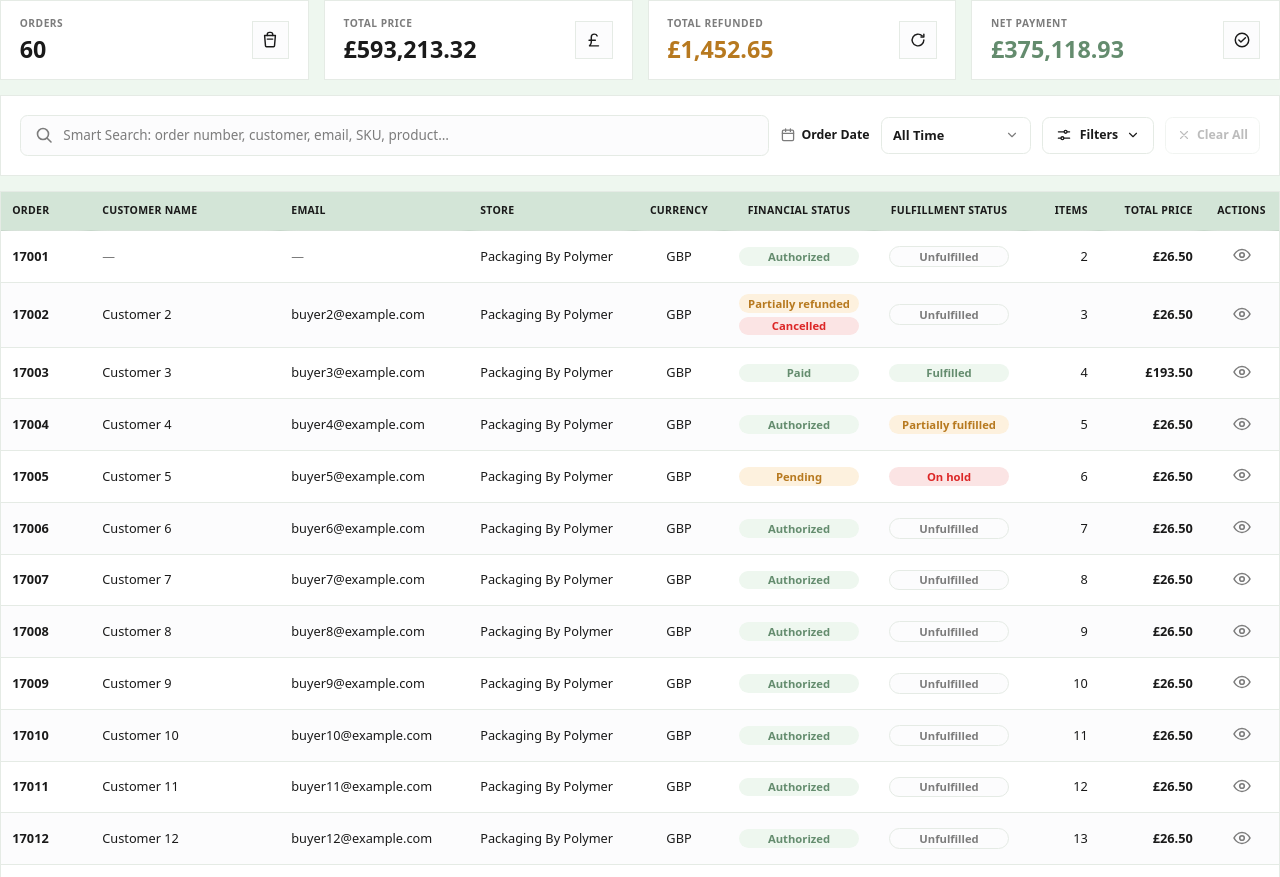
Test case: OrdersPage › searches after a short pause, returns to page 1, and recovers from an empty result
The image size is (1280, 877).
Expected: the text "17002" is shown, x1=12 y1=305 x2=49 y2=323
Type "nomatch" into the search field with placeholder "Smart Search: order number, customer, email, SKU, product…". click: x=409, y=136
box: x1=63 y1=125 x2=754 y2=146
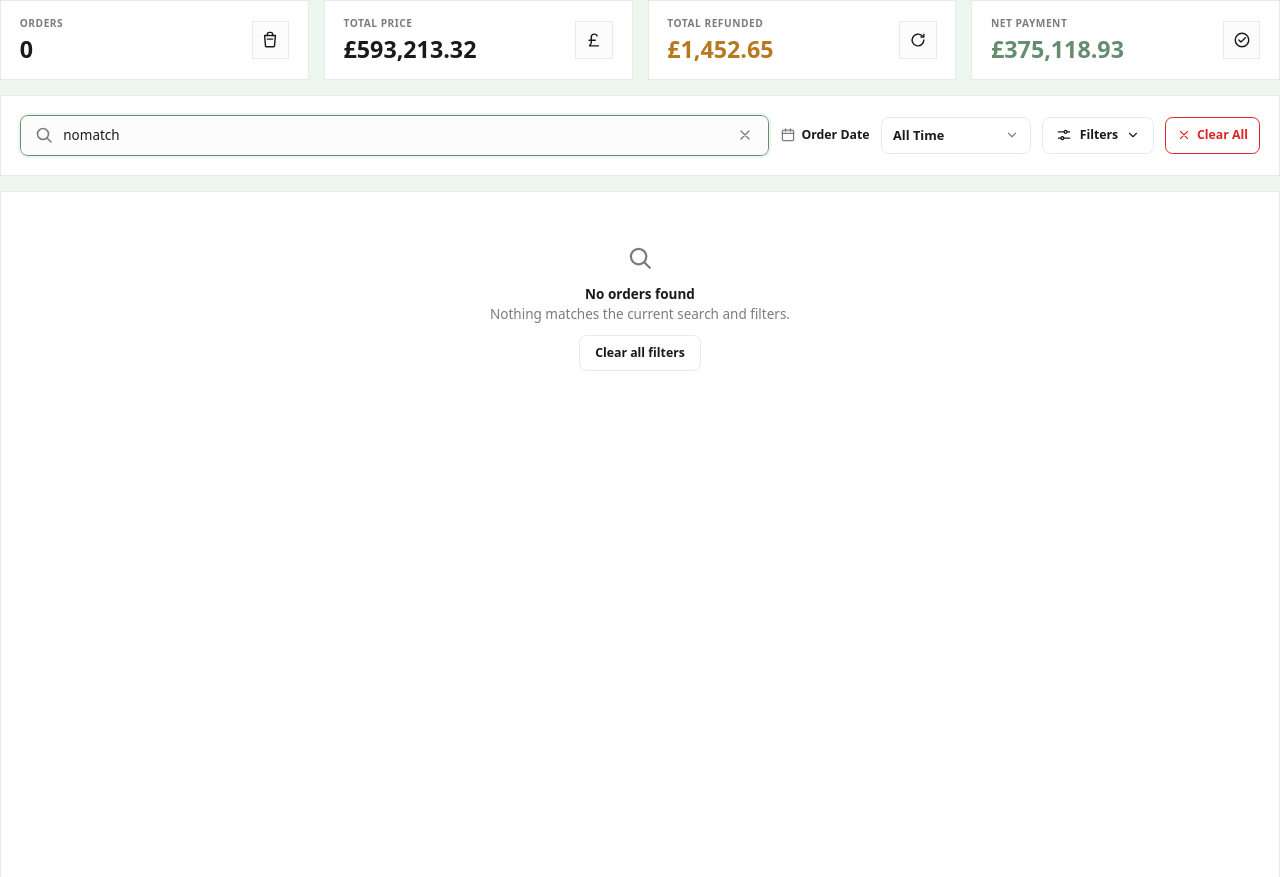
Result: the text "No orders found" is shown at x1=585 y1=285 x2=695 y2=303
Click the button "Clear all filters". click: x=640, y=353
box: x1=579 y1=335 x2=701 y2=371
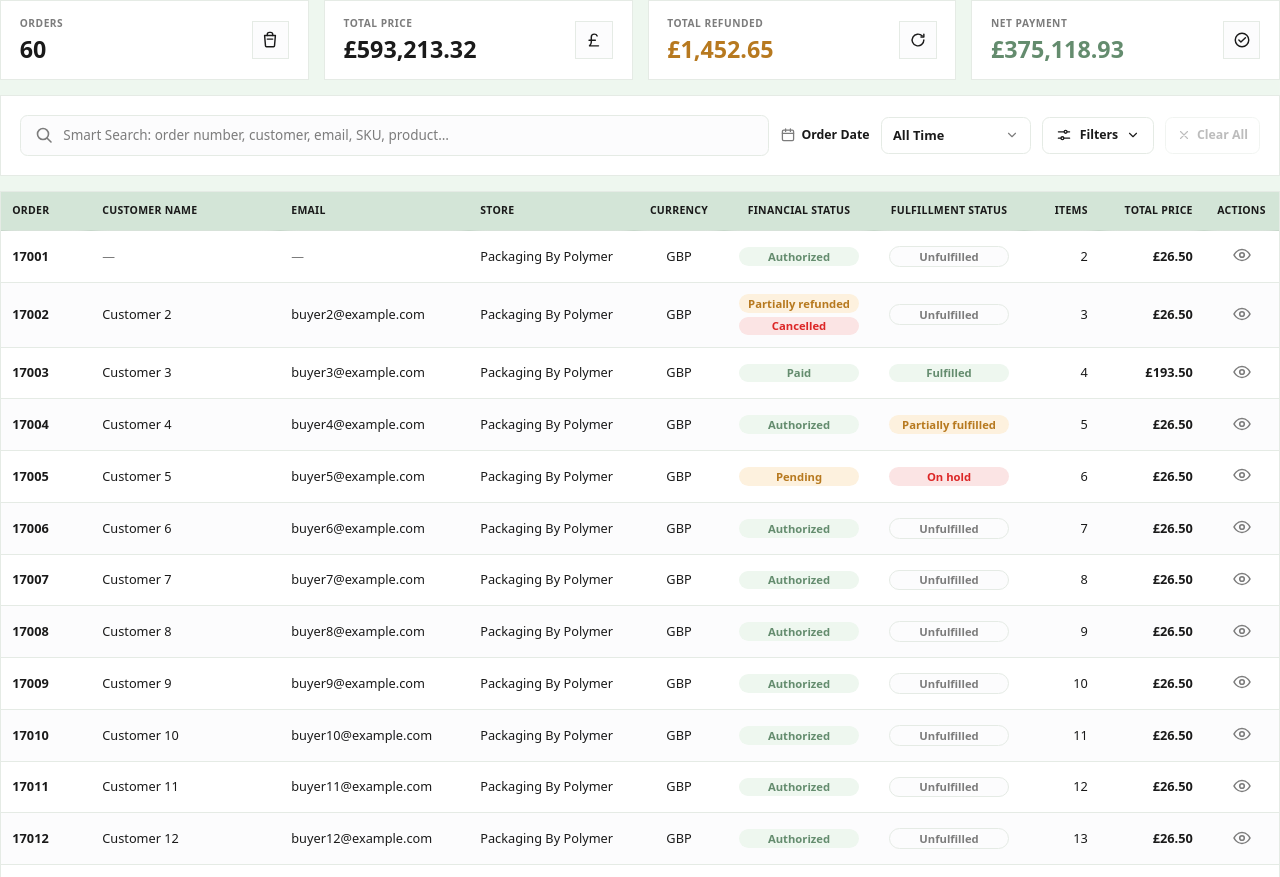
Result: the text "17002" is shown at x1=12 y1=305 x2=49 y2=323
Result: the search field named "Search orders" is empty at x1=63 y1=125 x2=754 y2=146
